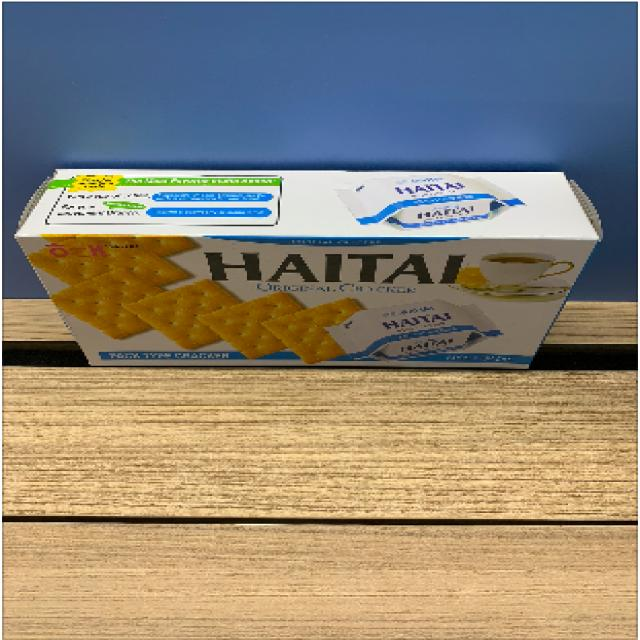object_name: (45, 170, 547, 370)
